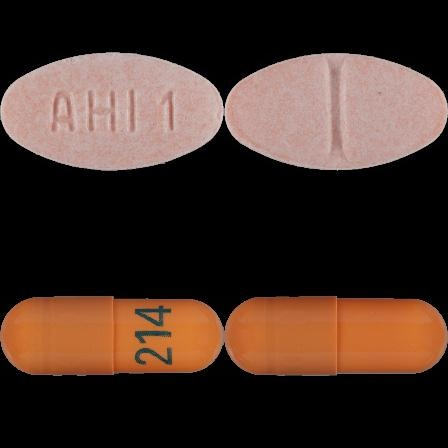61786-326: (0, 0, 224, 224)
